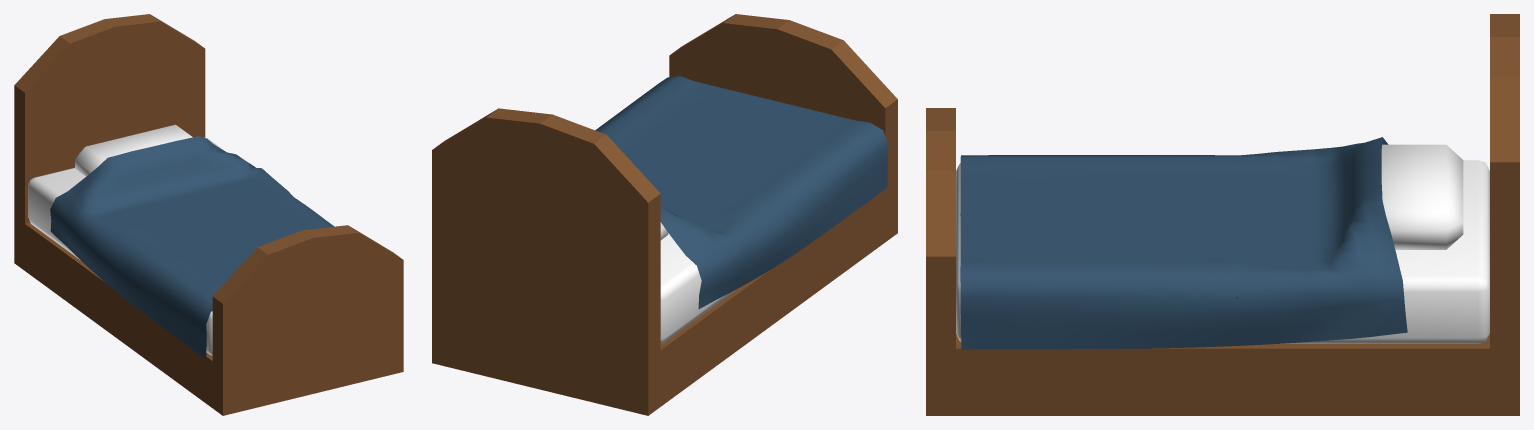
The model's file is bed.fbx.
The picture shows the model from 3 angles, left to right: view 1: azimuth 30°, elevation 25°; view 2: azimuth 150°, elevation 25°; view 3: azimuth 270°, elevation 25°; orthographic projection. The views are drawn at different scales.
Parts seen in each view (by area): view 1: bed; view 2: bed; view 3: bed.
Part boxes in pixels (x1,y1,x2,y2): bed: (14, 14, 403, 415); bed: (432, 14, 897, 415); bed: (926, 14, 1519, 415).
Bounding box in the file's own units: 220 × 235 × 400.
Materials: 1 (1 with a texture image).
